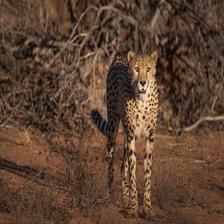Cheetah: (90, 49, 164, 219)
